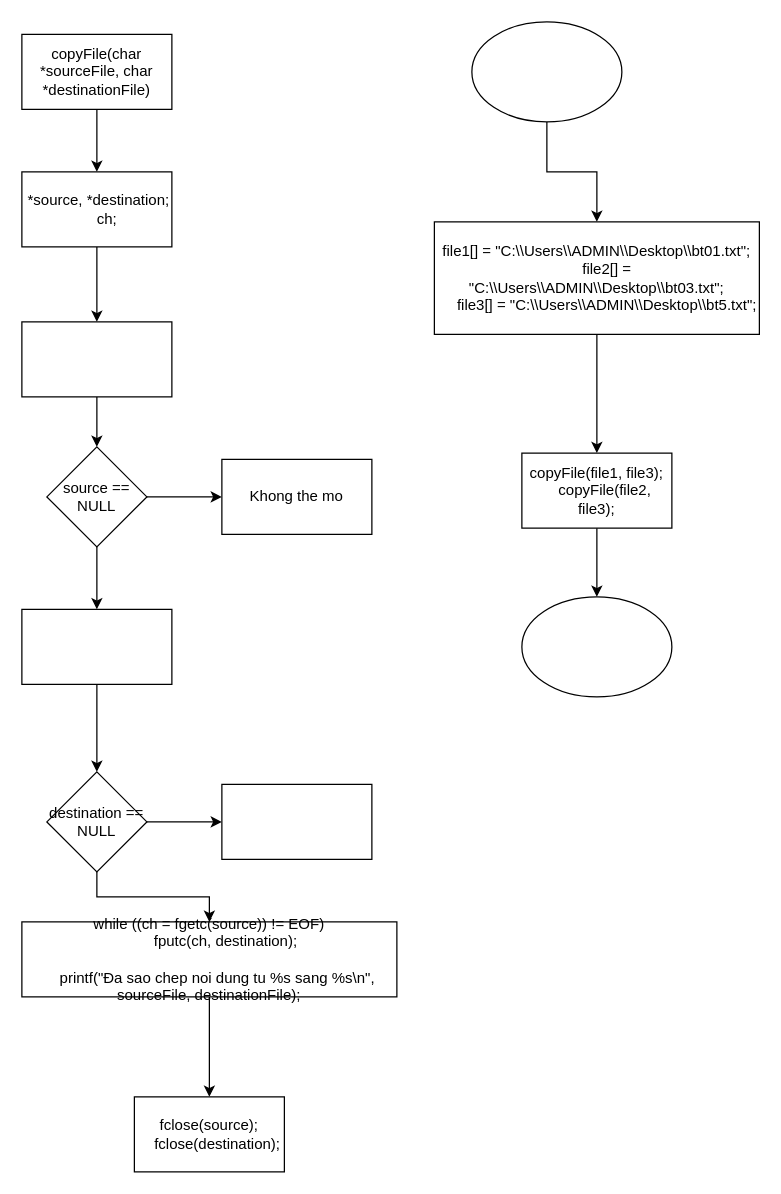
The diagram is 781 pixels wide and 1194 high, and some of its shapes have lost their labels. Here are the shapes that lost their labels. From the top down, the box of each, then its label:
(471, 21, 622, 122): start
(21, 321, 172, 397): source = fopen(sourceFile, "r");
(21, 608, 172, 684): destination = fopen(destinationFile, "a");
(521, 596, 672, 697): end
(221, 783, 372, 859): fclose(source); Khong the mo
